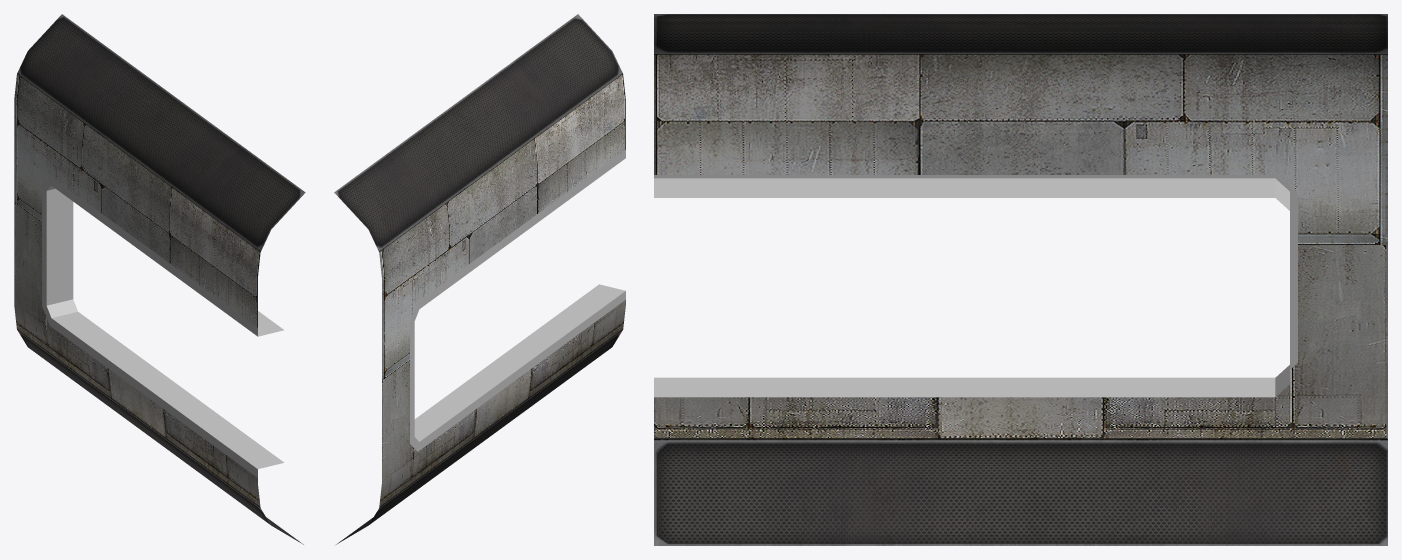
Rendered from Wall_B_Mid4mts_05.fbx.
3 renders of one model, left to right at view 1: azimuth 30°, elevation 25°; view 2: azimuth 150°, elevation 25°; view 3: azimuth 270°, elevation 25°, orthographic. The views are drawn at different scales.
Visible parts, largest first — view 1: Wall_B_Mid4mts_05; view 2: Wall_B_Mid4mts_05; view 3: Wall_B_Mid4mts_05.
Part boxes in pixels (left/top/right/bottom): Wall_B_Mid4mts_05: left=14, top=14, right=305, bottom=544; Wall_B_Mid4mts_05: left=334, top=14, right=625, bottom=544; Wall_B_Mid4mts_05: left=654, top=14, right=1387, bottom=545.
Bounding box in the file's own units: 56.79 × 400 × 500.
